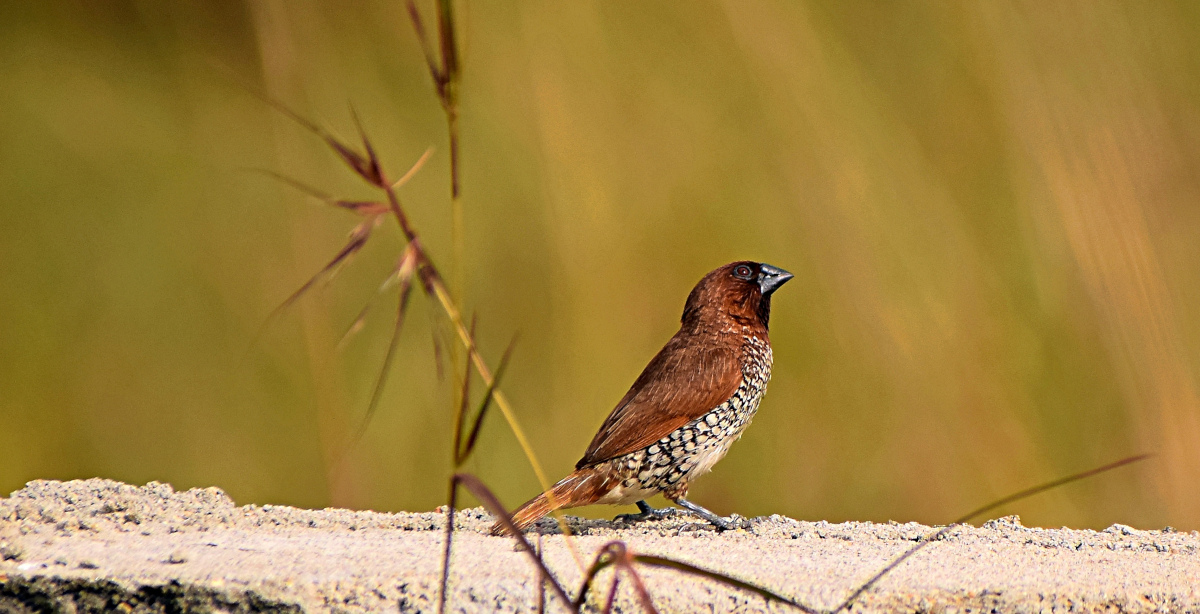bird: (485, 257, 797, 540)
